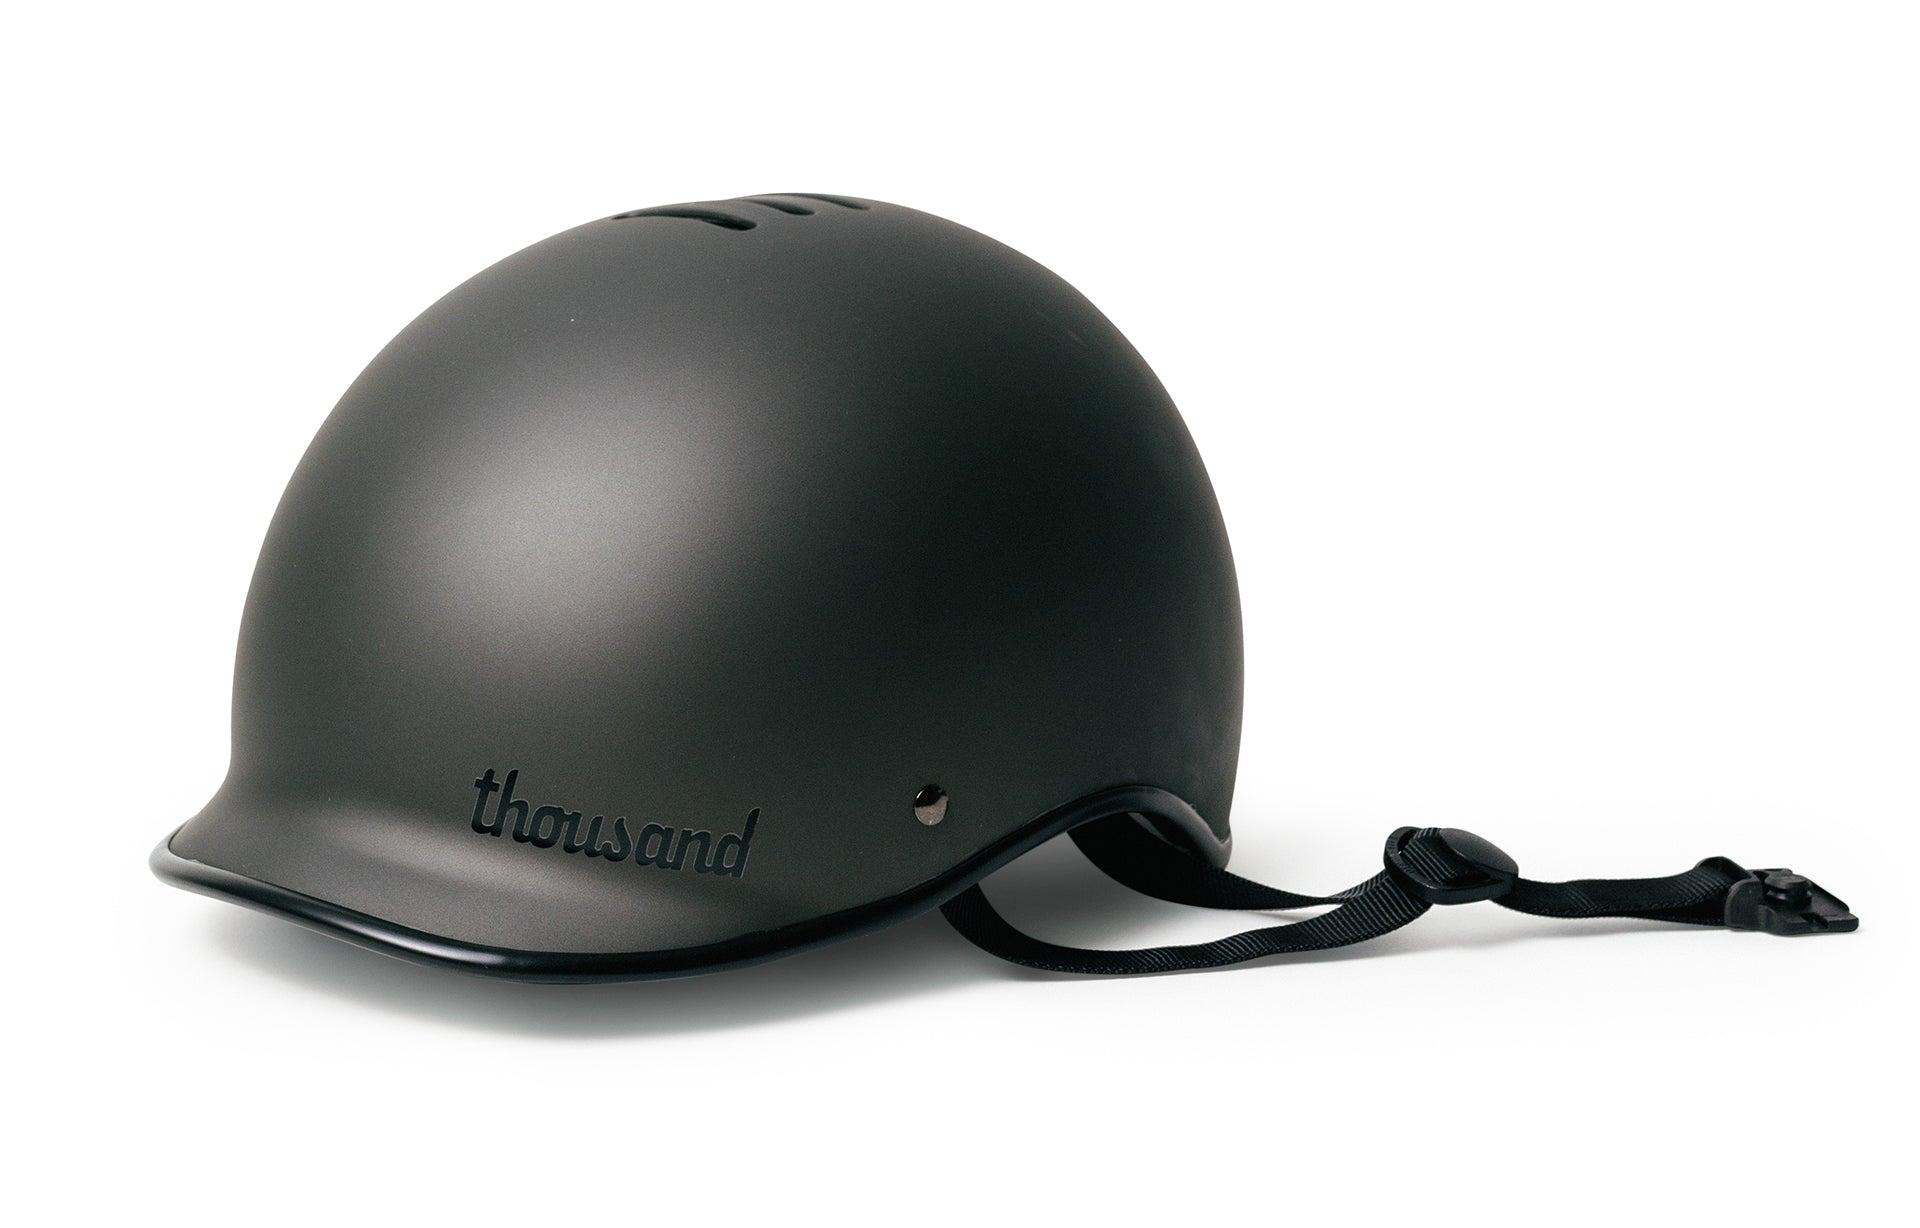Helmet: (150, 194, 1856, 986)
